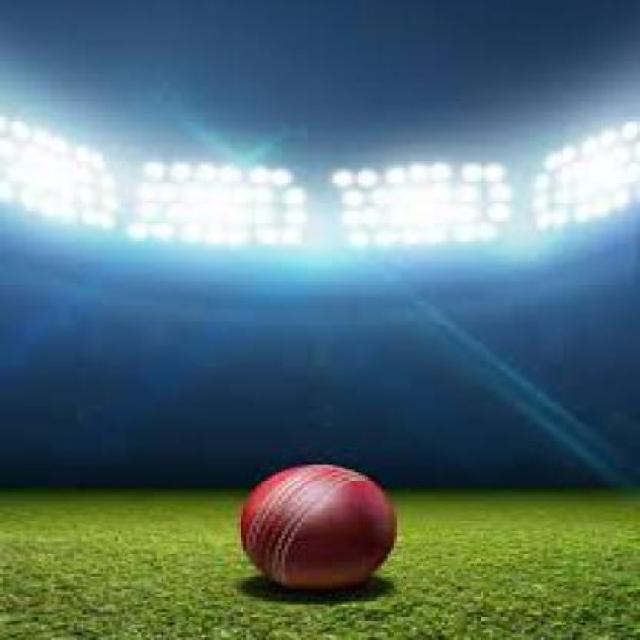ball: (236, 437, 427, 618)
